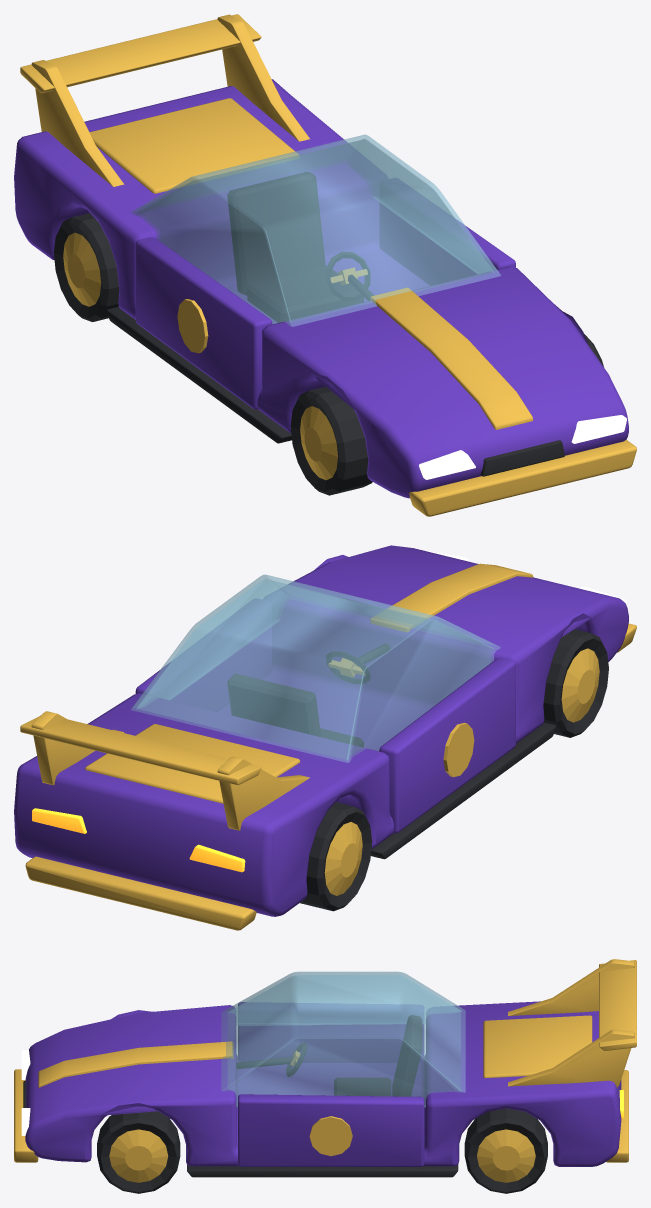
Rendered from purple-hero-car.glb.
The picture shows the model from 3 angles, top to bottom: view 1: azimuth 30°, elevation 25°; view 2: azimuth 150°, elevation 25°; view 3: azimuth 270°, elevation 25°; orthographic projection. The views are drawn at different scales.
Visible parts, largest first — view 1: Body, Canopy, DriverSeat, Door_R, TrunkHatch, BonnetStripe, FR, Spoiler, Bumper_Front, RR, Door_L, Fin_R (+7 smaller); view 2: Body, Canopy, Door_R, Bumper_Rear, TrunkHatch, RR, FR, Spoiler, DriverSeat, Door_L, BonnetStripe, Sill_R (+6 smaller); view 3: Body, Canopy, Door_L, Door_R, RL, FL, TrunkHatch, BonnetStripe, Fin_L, Sill_L, Spoiler, DriverSeat (+5 smaller).
Boxes of the visible parts, box(x1,y1,x2,y2) form: Body: box(14, 79, 628, 498); Canopy: box(131, 134, 500, 326); DriverSeat: box(227, 172, 363, 322); Door_R: box(135, 237, 272, 409); TrunkHatch: box(89, 98, 298, 193); BonnetStripe: box(370, 287, 533, 429); FR: box(290, 386, 372, 495); Spoiler: box(20, 14, 261, 93); Bumper_Front: box(409, 440, 636, 516); RR: box(53, 213, 119, 321); Door_L: box(379, 202, 515, 285); Fin_R: box(31, 60, 124, 186); Body: box(14, 545, 628, 916); Canopy: box(131, 574, 500, 762); Door_R: box(379, 657, 515, 833); Bumper_Rear: box(25, 856, 256, 930); TrunkHatch: box(85, 724, 300, 803); RR: box(300, 802, 371, 911); FR: box(543, 629, 608, 737); Spoiler: box(20, 715, 261, 785); DriverSeat: box(227, 673, 363, 747); Door_L: box(135, 626, 271, 711); BonnetStripe: box(370, 563, 533, 631); Sill_R: box(370, 722, 555, 859); Body: box(25, 1001, 621, 1166); Canopy: box(221, 971, 465, 1107); Door_L: box(238, 1094, 424, 1166); Door_R: box(238, 1002, 423, 1062); RL: box(464, 1108, 547, 1193); FL: box(97, 1111, 180, 1193); TrunkHatch: box(483, 1015, 592, 1078); BonnetStripe: box(38, 1041, 233, 1087); Fin_L: box(508, 1029, 634, 1087); Sill_L: box(187, 1165, 458, 1177); Spoiler: box(599, 960, 636, 1050); DriverSeat: box(334, 1015, 421, 1096).
Size of the model in its own units: 8.6 by 5.69 by 21.69.
